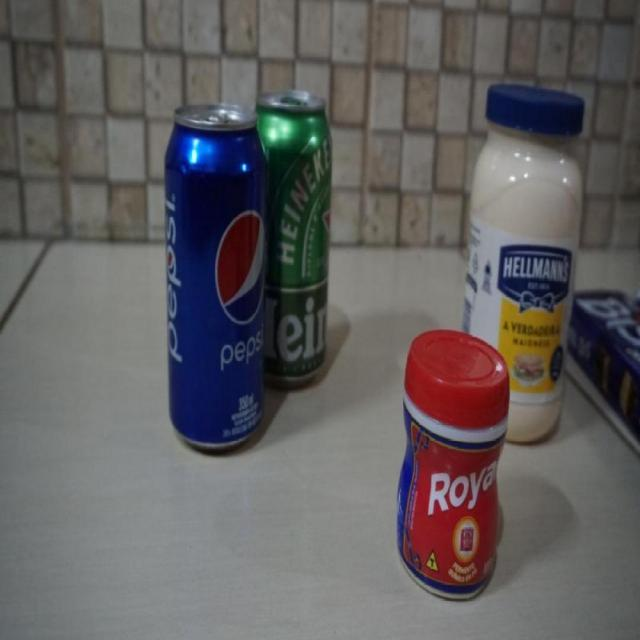BeerCan: (253, 90, 333, 397)
Mayonnaise: (462, 83, 585, 444)
SodaCan: (162, 102, 268, 457)
Yeast: (392, 330, 511, 602)
